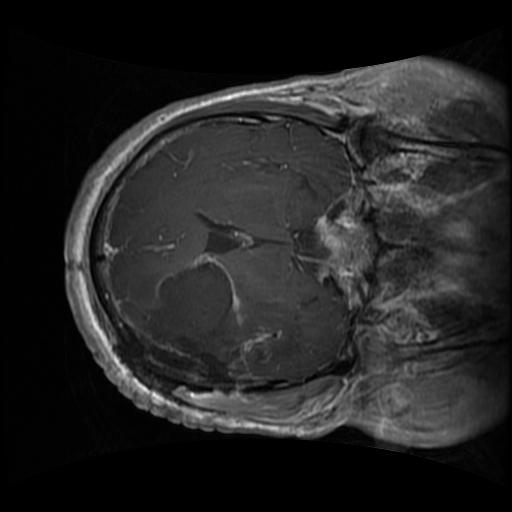glioma: (119, 251, 293, 384)
